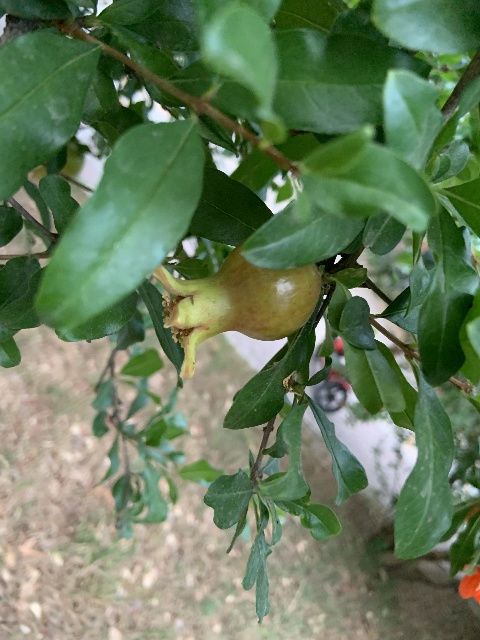early-fruit: (153, 244, 321, 380)
